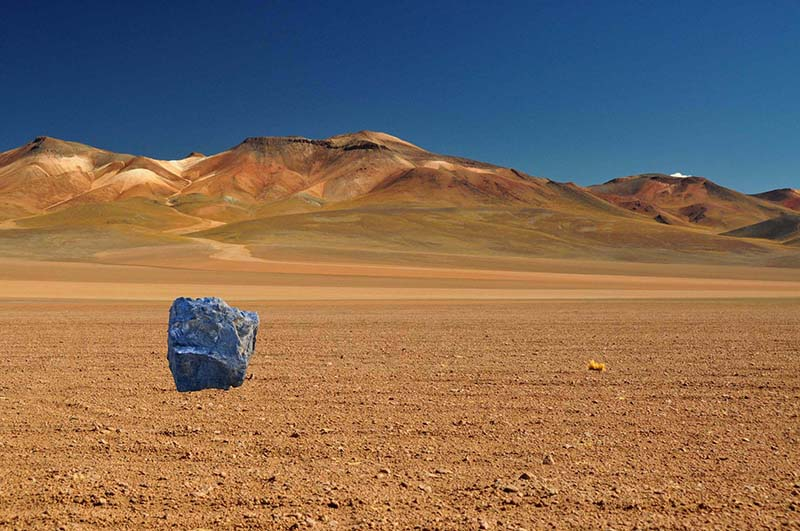Rocks: (160, 290, 267, 395)
